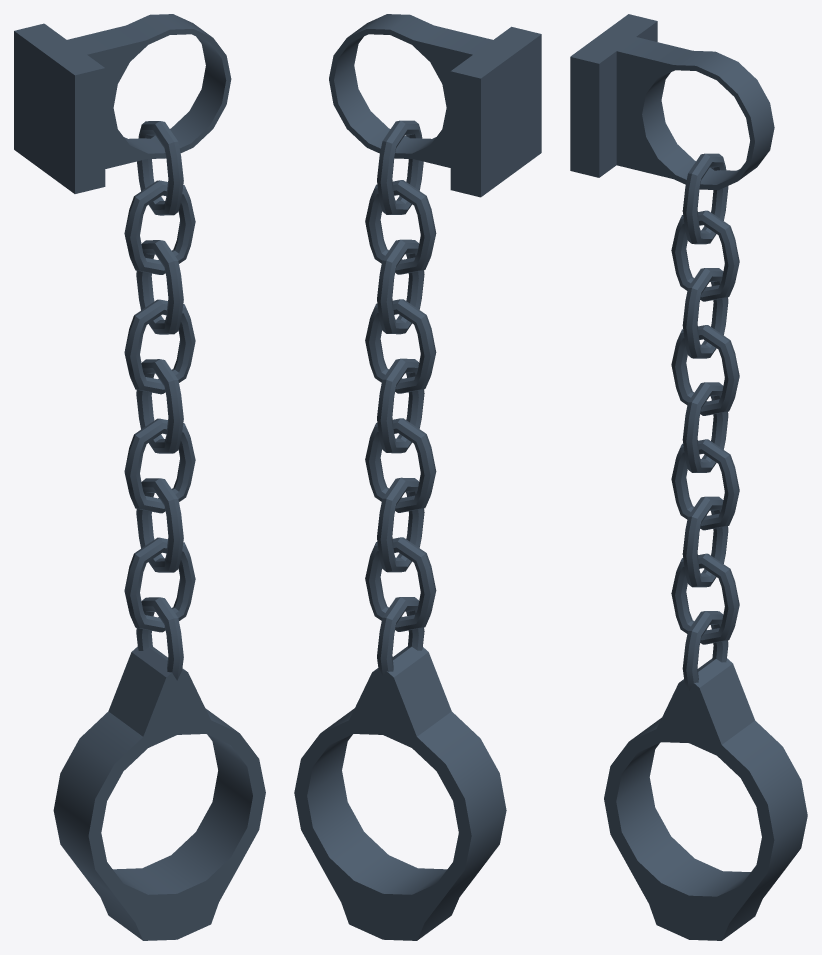
Rendered from wallchain.fbx.
3 renders of one model, left to right at view 1: azimuth 30°, elevation 25°; view 2: azimuth 150°, elevation 25°; view 3: azimuth 330°, elevation 25°, orthographic. The views are drawn at different scales.
Parts seen in each view (by area): view 1: Circle.006; view 2: Circle.006; view 3: Circle.006.
Part boxes in pixels (x1,y1,x2,y2): Circle.006: [14, 14, 265, 940]; Circle.006: [294, 14, 541, 940]; Circle.006: [570, 14, 807, 940].
Bounding box in the file's own units: 0.4544 × 1.95 × 0.2373.
